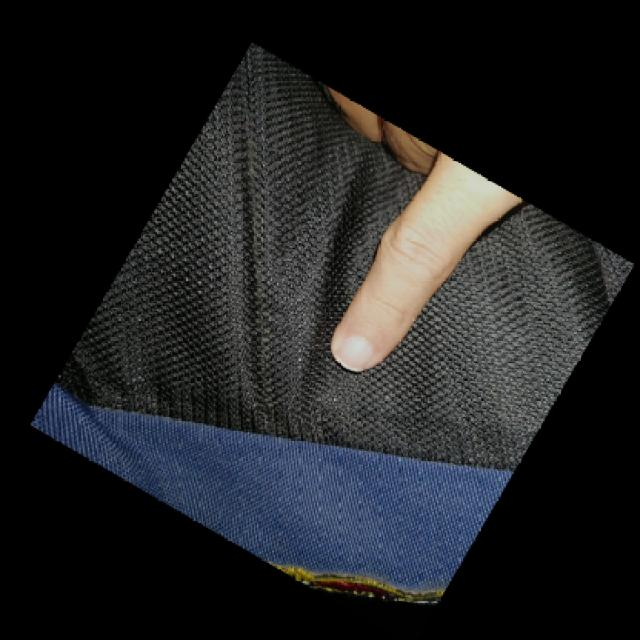Nail: (335, 337, 375, 371)
